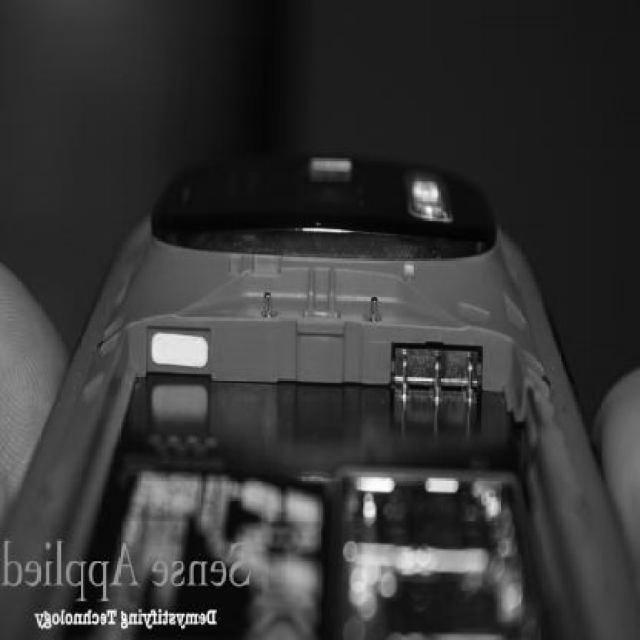fake: (0, 147, 640, 640)
